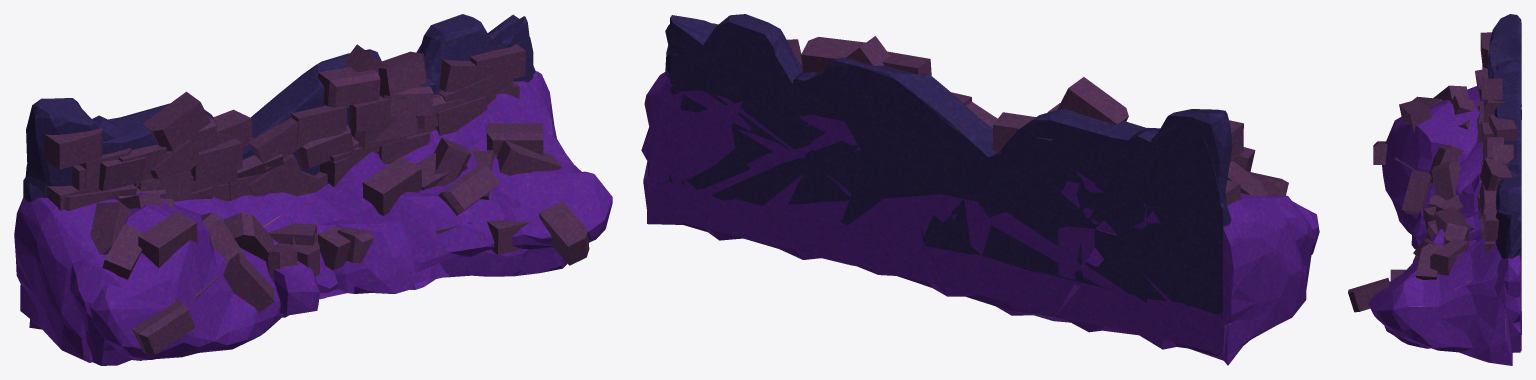
File: WALLS.fbx
3 views of the same model, side by side, from view 1: azimuth 30°, elevation 25°; view 2: azimuth 150°, elevation 25°; view 3: azimuth 270°, elevation 25° (orthographic). The views are drawn at different scales.
Visible parts, largest first — view 1: Wall.003, Wall, Wall.002, Wall.001; view 2: Wall.002, Wall, Wall.003, Wall.001; view 3: Wall.003, Wall, Wall.002, Wall.001.
Part boxes in pixels (bbox=[...]): Wall.003: bbox=[26, 16, 612, 360]; Wall: bbox=[14, 14, 561, 362]; Wall.002: bbox=[23, 14, 567, 365]; Wall.001: bbox=[20, 44, 553, 322]; Wall.002: bbox=[649, 14, 1314, 354]; Wall: bbox=[656, 22, 1306, 353]; Wall.003: bbox=[647, 15, 1319, 365]; Wall.001: bbox=[641, 23, 1248, 354]; Wall.003: bbox=[1348, 14, 1521, 365]; Wall: bbox=[1394, 76, 1521, 279]; Wall.002: bbox=[1384, 60, 1521, 350]; Wall.001: bbox=[1428, 95, 1521, 352].
Bounding box in the file's own units: 642 × 265 × 240.
Materials: 1 (1 with a texture image).
